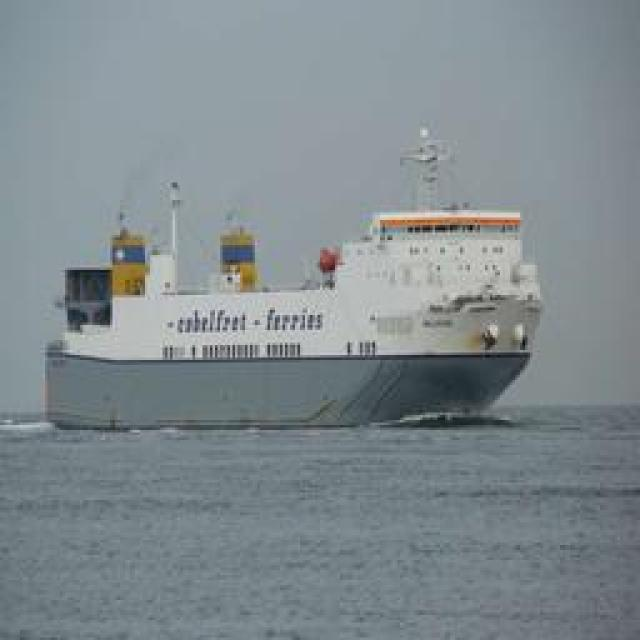ship2: (44, 126, 545, 434)
